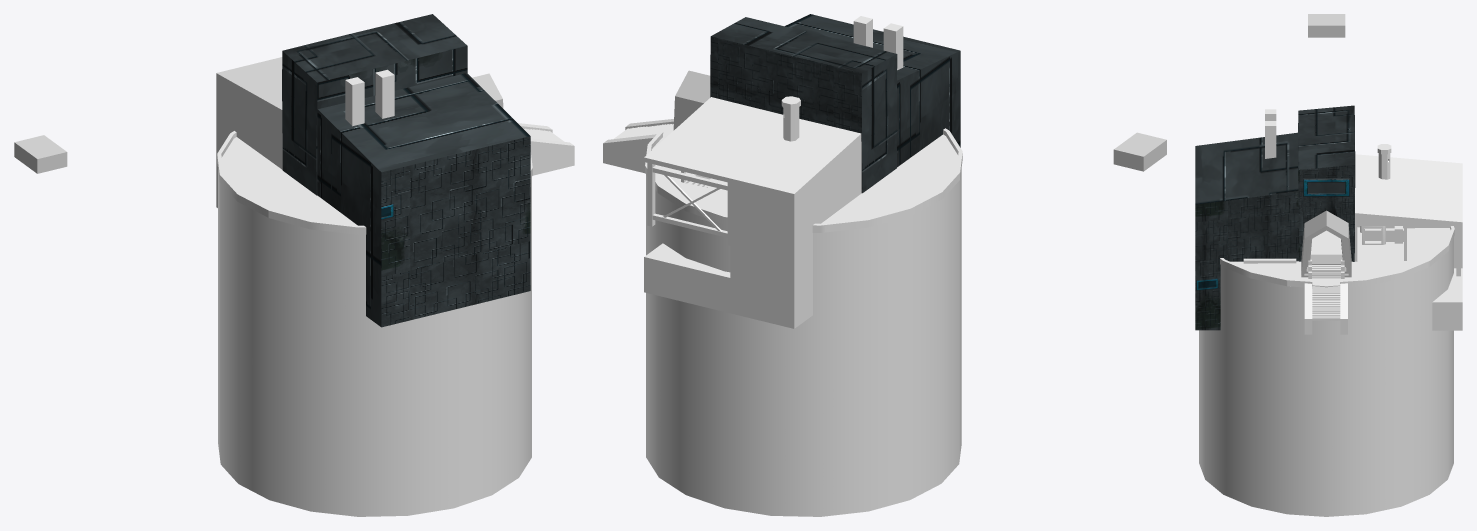
The model's file is UnderGroundBaseTexture.fbx.
The picture shows the model from 3 angles, left to right: view 1: azimuth 30°, elevation 25°; view 2: azimuth 150°, elevation 25°; view 3: azimuth 270°, elevation 25°; orthographic projection. The views are drawn at different scales.
Parts seen in each view (by area): view 1: polySurface2, pCube2, polySurface33, polySurface31, polySurface17, Cube, pCube47, pCube18, pCube19; view 2: polySurface2, polySurface31, polySurface33, pCube2, polySurface17, Cube, pCube46, pCube4, pCube18; view 3: polySurface2, pCube2, polySurface31, polySurface33, pCube4, polySurface17, Cube, Cube.001, pCube47, pCube19, pCube46, pCube21 (+1 smaller).
Part boxes in pixels (<box>): polySurface2: <box>218,137,531,516</box>; pCube2: <box>317,73,530,327</box>; polySurface33: <box>282,14,467,195</box>; polySurface31: <box>216,57,282,207</box>; polySurface17: <box>217,131,532,234</box>; Cube: <box>14,135,67,173</box>; pCube47: <box>530,138,574,175</box>; pCube18: <box>345,77,364,126</box>; pCube19: <box>375,69,394,118</box>; polySurface2: <box>646,126,961,516</box>; polySurface31: <box>644,97,861,328</box>; polySurface33: <box>710,17,897,193</box>; pCube2: <box>785,14,960,167</box>; polySurface17: <box>645,128,962,232</box>; Cube: <box>1113,132,1166,171</box>; pCube46: <box>603,134,656,173</box>; pCube4: <box>673,70,710,130</box>; pCube18: <box>883,23,903,70</box>; polySurface2: <box>1199,227,1453,516</box>; pCube2: <box>1195,132,1298,330</box>; polySurface31: <box>1354,154,1462,330</box>; polySurface33: <box>1298,105,1355,261</box>; pCube4: <box>1301,210,1351,277</box>; polySurface17: <box>1220,226,1454,287</box>; Cube: <box>1308,14,1345,37</box>; Cube.001: <box>1303,178,1349,196</box>; pCube47: <box>1304,283,1312,334</box>; pCube19: <box>1265,121,1276,158</box>; pCube46: <box>1340,283,1347,334</box>; pCube21: <box>1378,153,1390,179</box>.
Size of the model in its own units: 1122 by 820 by 600.
